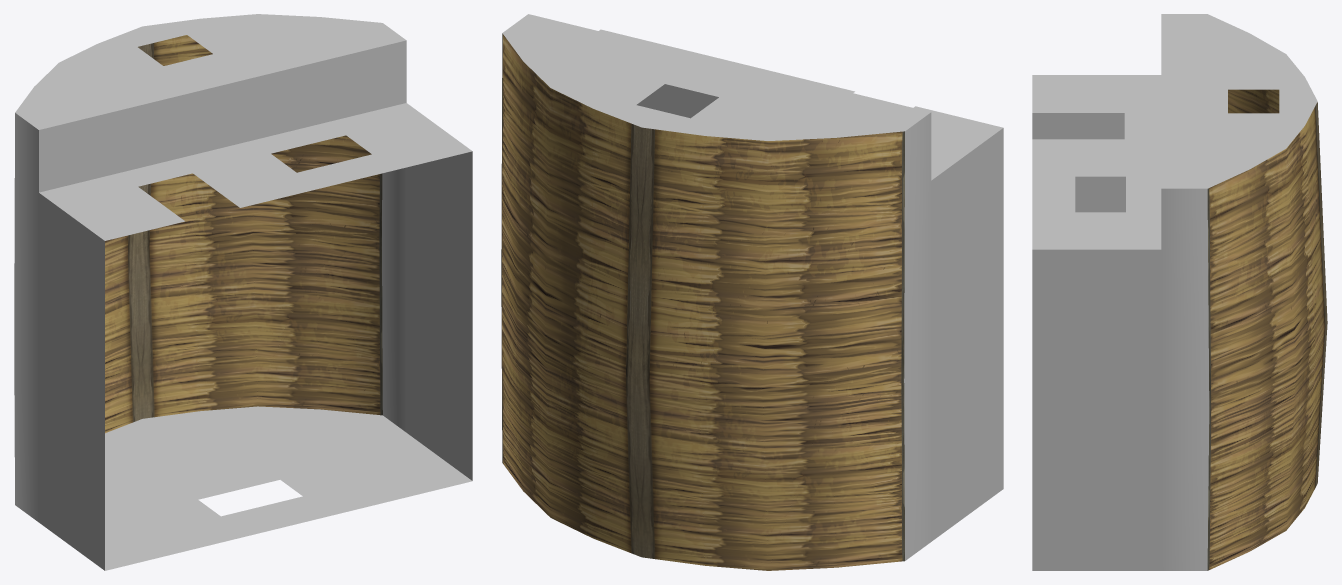
Rendered from Pirate_House_Exterior_Type01_C.fbx.
3 views of the same model, side by side, from view 1: azimuth 30°, elevation 25°; view 2: azimuth 150°, elevation 25°; view 3: azimuth 270°, elevation 25° (orthographic). The views are drawn at different scales.
Parts seen in each view (by area): view 1: Pirate_House_Exterior_Type01_C; view 2: Pirate_House_Exterior_Type01_C; view 3: Pirate_House_Exterior_Type01_C.
Boxes of the visible parts, box(x1,y1,x2,y2) form: Pirate_House_Exterior_Type01_C: box(14, 14, 472, 570); Pirate_House_Exterior_Type01_C: box(501, 14, 1003, 570); Pirate_House_Exterior_Type01_C: box(1032, 14, 1327, 570).
Bounding box in the file's own units: 9.5 × 9.69 × 6.78.
